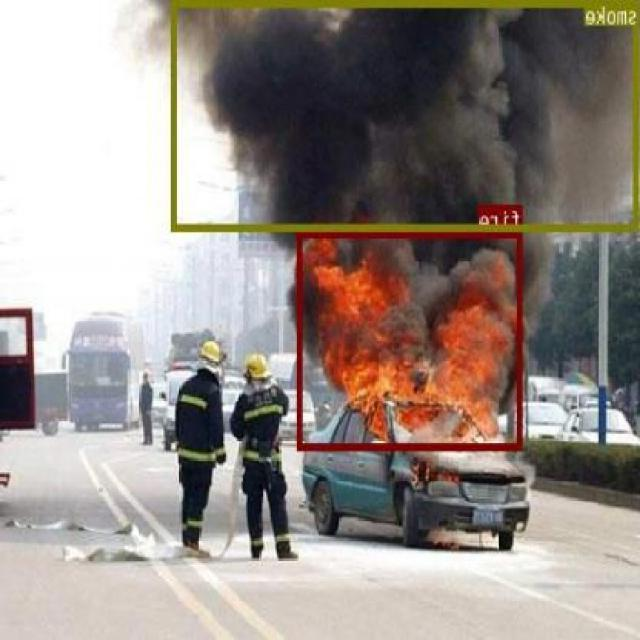Fire: (298, 229, 524, 449)
Smoke: (172, 0, 640, 231)
